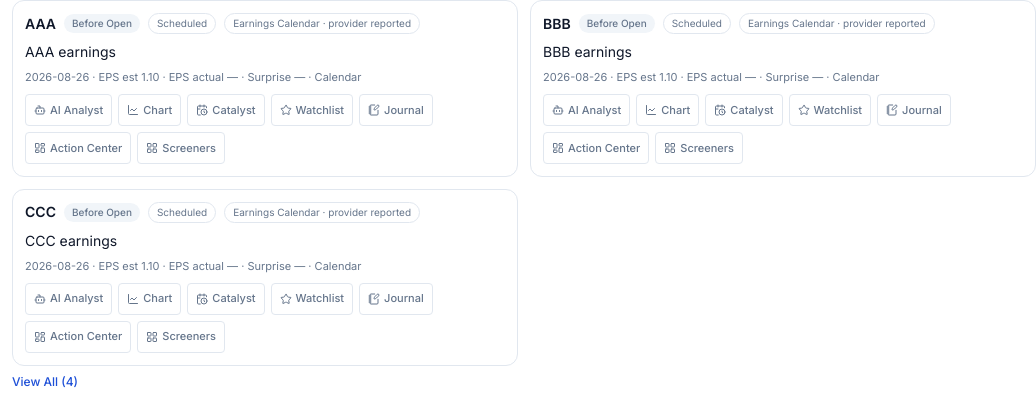
Scenario: earnings and headlines Top-3 › shows the first three earnings and View All for the rest
Expected: the text "AAA earnings" is shown, [25, 43, 116, 60]
Expected: the text "CCC earnings" is shown, [25, 232, 117, 249]
Click the button "View All (4)" at (45, 382), box [12, 374, 78, 390]
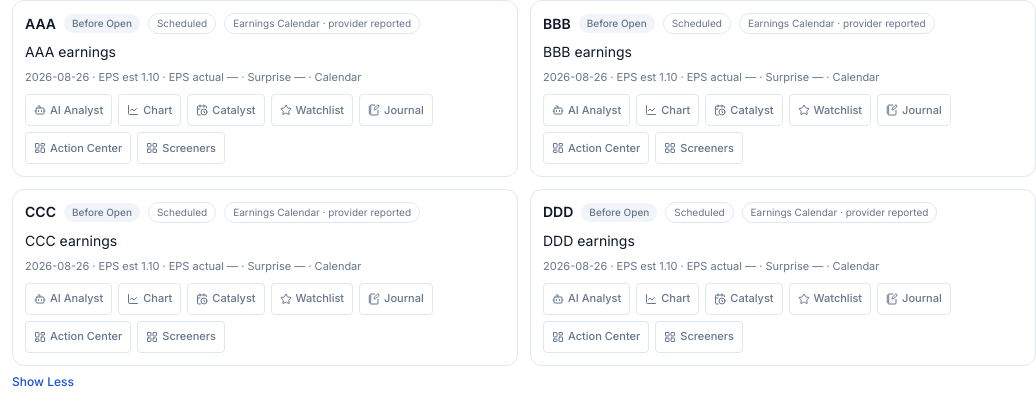
Now the text "DDD earnings" is shown, box [543, 232, 635, 249]
